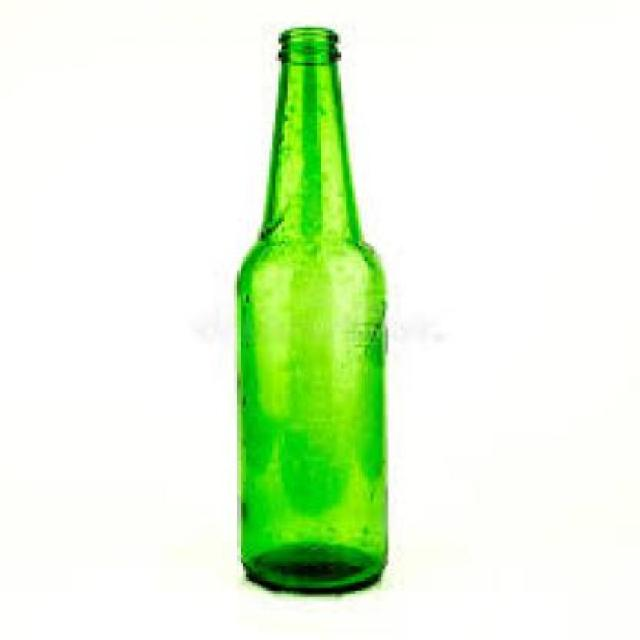kaca: (234, 24, 383, 590)
